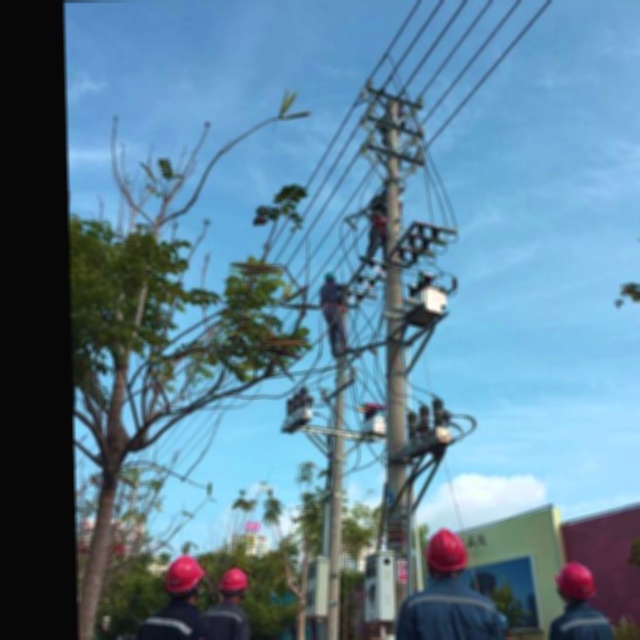Con_Casco: (426, 528, 466, 581), (554, 562, 596, 607), (165, 556, 205, 603), (220, 567, 247, 605)
Sin_Chaleco: (407, 588, 501, 640), (558, 612, 613, 640)
